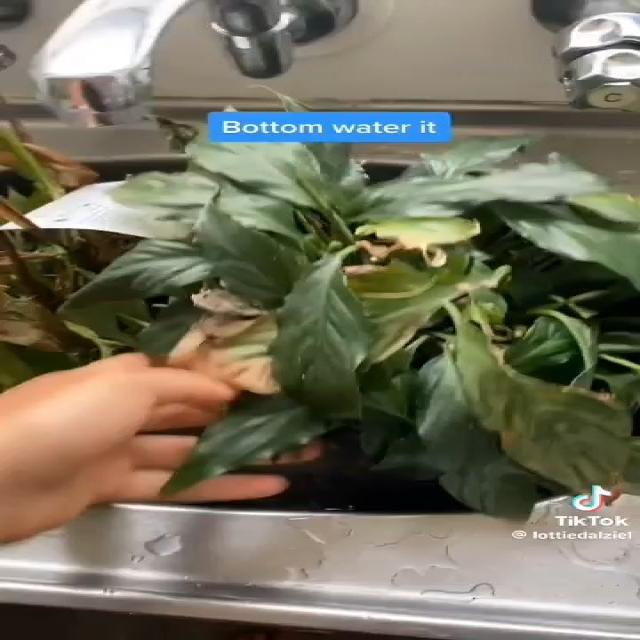lisc_suchy: (0, 232, 98, 358), (169, 289, 283, 397), (0, 203, 121, 273), (14, 119, 101, 189), (345, 236, 452, 276), (0, 153, 18, 167)
roslina_sucha: (0, 122, 640, 517)
